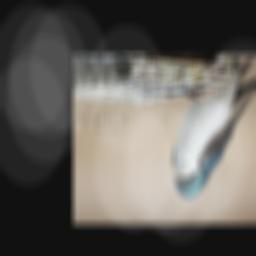Swallow: (171, 56, 256, 199)
